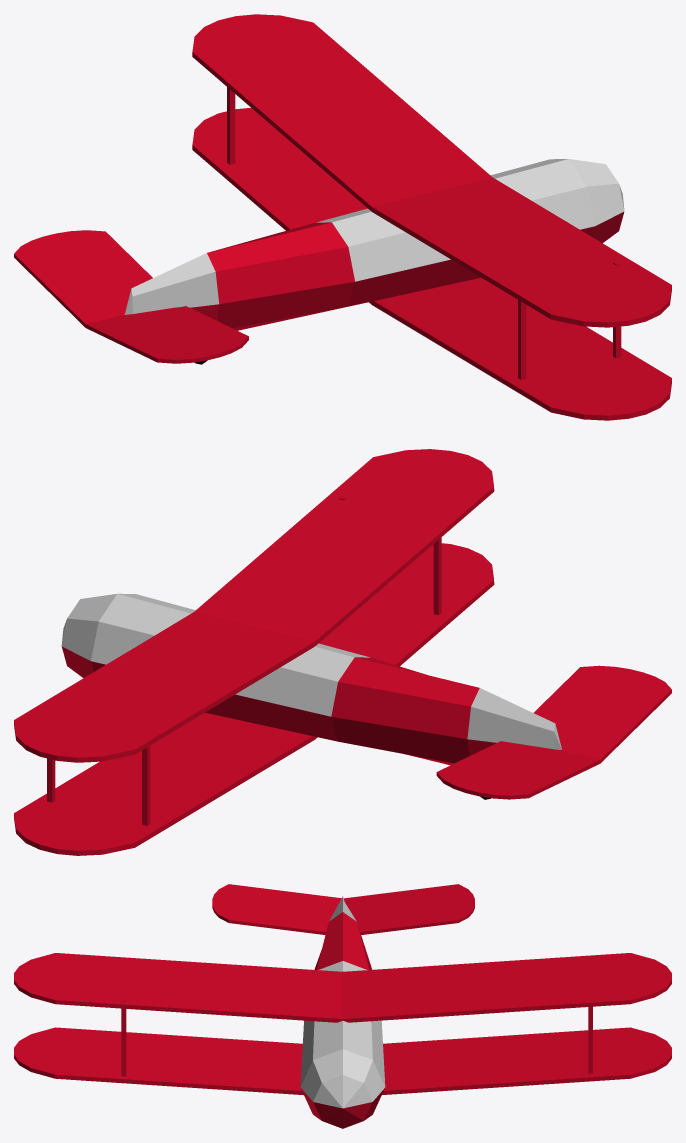
File: sprayer.fbx
The picture shows the model from 3 angles, top to bottom: view 1: azimuth 30°, elevation 25°; view 2: azimuth 150°, elevation 25°; view 3: azimuth 270°, elevation 25°; orthographic projection. The views are drawn at different scales.
Visible parts, largest first — view 1: Plane; view 2: Plane; view 3: Plane.
Boxes of the visible parts, bbox=[...] form: Plane: bbox=[14, 14, 671, 420]; Plane: bbox=[14, 449, 671, 855]; Plane: bbox=[14, 884, 671, 1128].
Size of the model in its own units: 1171 by 288 by 1550.
